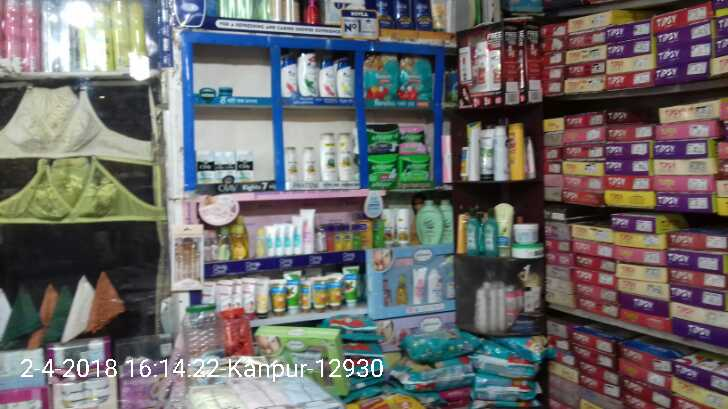vicks: (201, 88, 214, 98), (220, 87, 233, 96)
